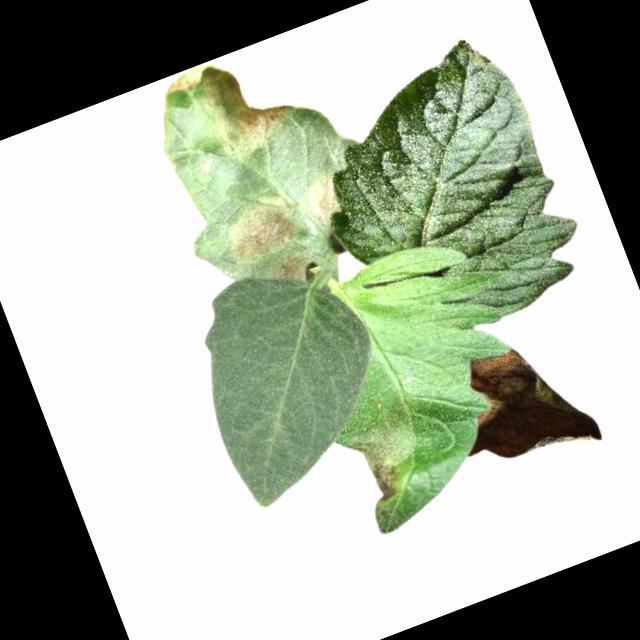Late_blight: (436, 327, 604, 486), (160, 41, 297, 178), (338, 397, 437, 511), (216, 183, 309, 271), (298, 168, 350, 231), (265, 250, 312, 293)
healthy: (286, 23, 601, 363), (170, 241, 423, 515)
